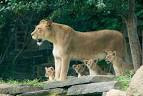lion: (27, 18, 128, 82)
